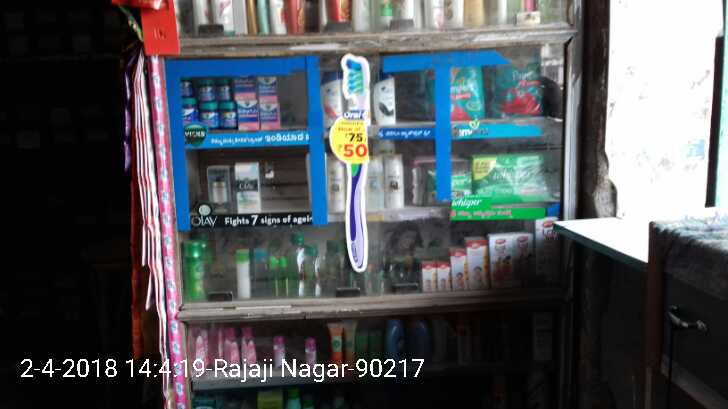vicks: (180, 77, 281, 129)
